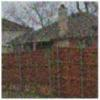chimneys: (56, 4, 68, 36)
